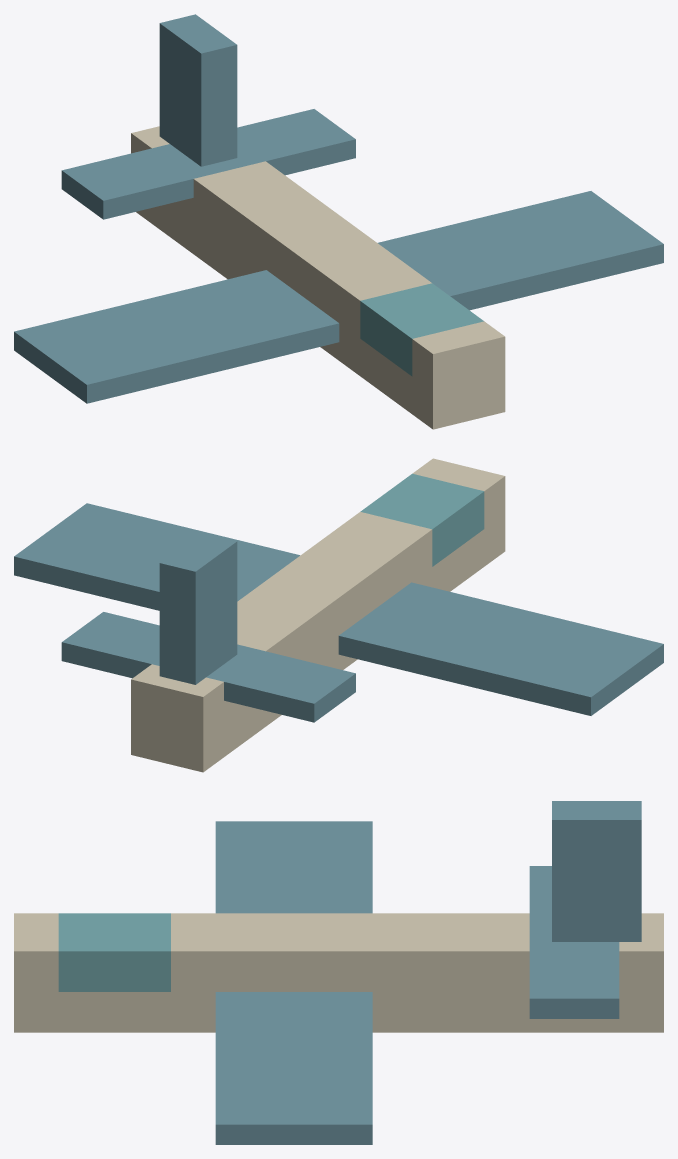
File: travel-03.glb
The picture shows the model from 3 angles, top to bottom: view 1: azimuth 30°, elevation 25°; view 2: azimuth 150°, elevation 25°; view 3: azimuth 270°, elevation 25°; orthographic projection. The views are drawn at different scales.
Parts seen in each view (by area): view 1: Airplane model; view 2: Airplane model; view 3: Airplane model.
Part boxes in pixels (left/top/right/bottom): Airplane model: left=14, top=14, right=663, bottom=429; Airplane model: left=14, top=458, right=663, bottom=772; Airplane model: left=14, top=801, right=663, bottom=1144.
Size of the model in its own units: 2.56 by 0.8 by 2.32.
